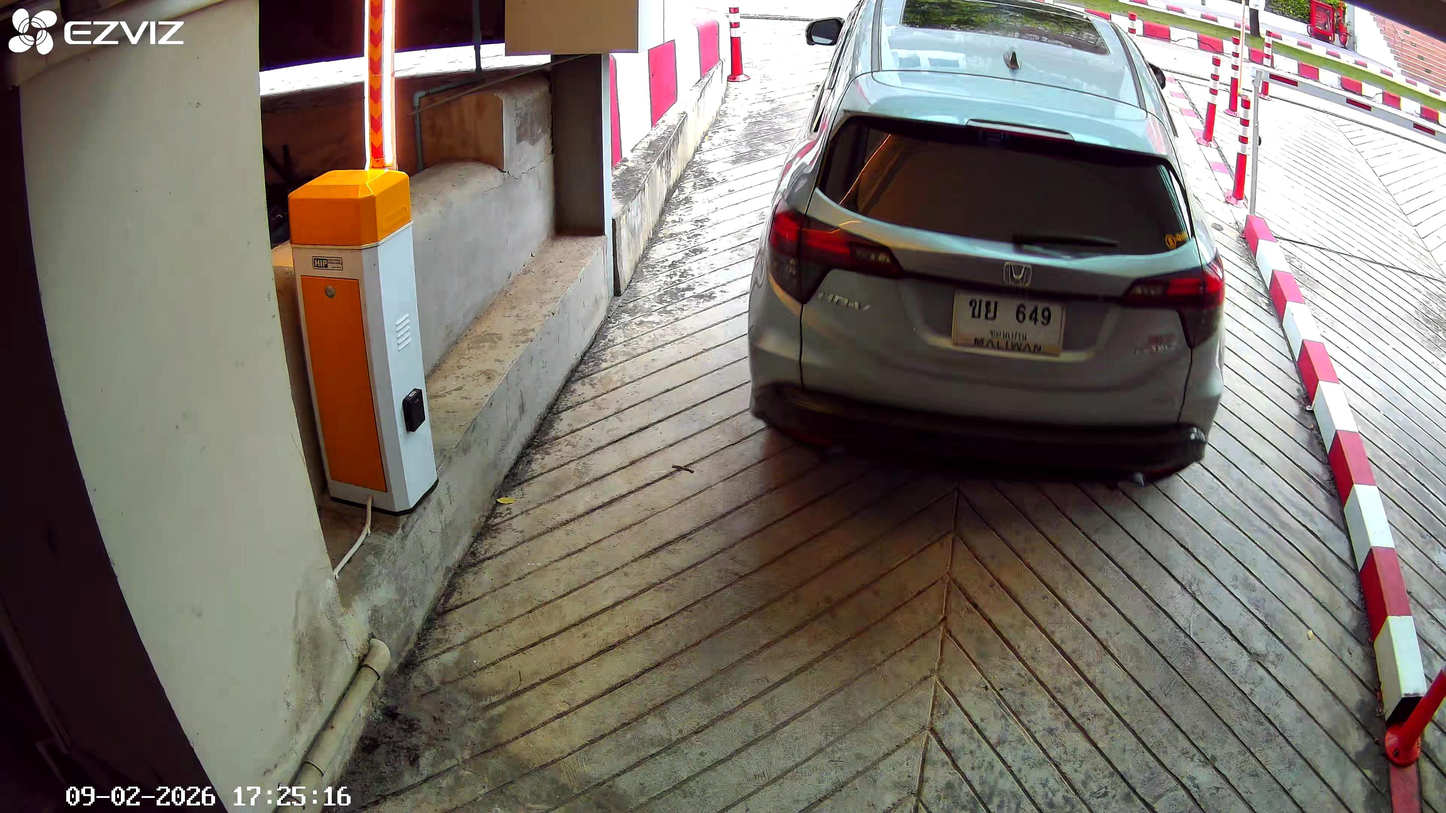car: (746, 6, 1228, 488)
license-plate: (948, 282, 1067, 358)
